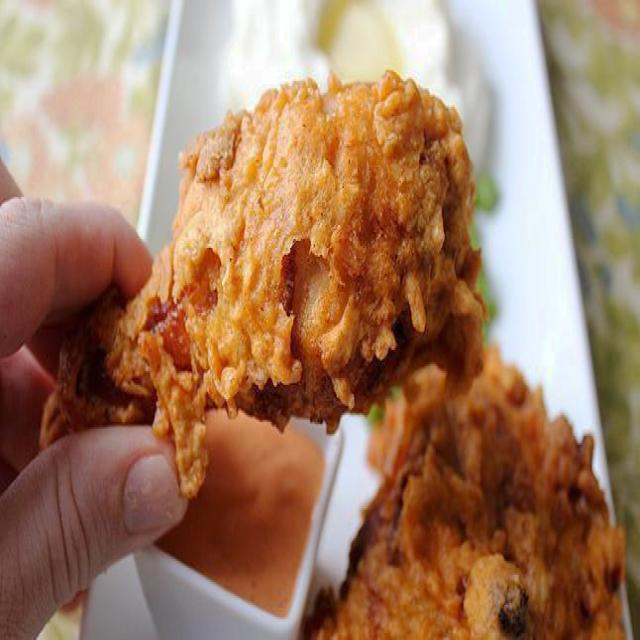fried_chicken: (25, 70, 489, 508), (300, 343, 624, 640)
